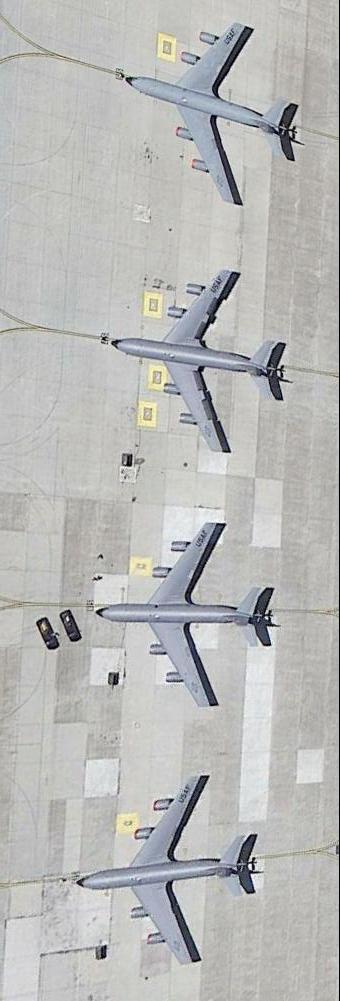KC-135: (69, 769, 264, 967), (109, 268, 296, 455), (98, 522, 279, 713), (122, 21, 305, 204)
